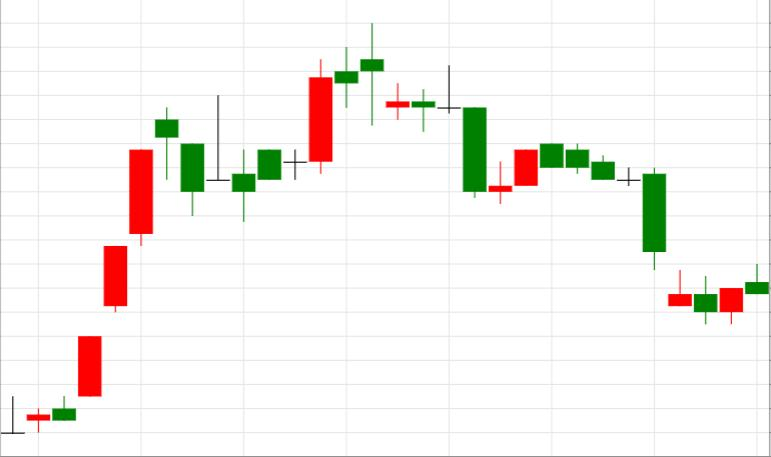morning_star_rise: (361, 22, 538, 204)
